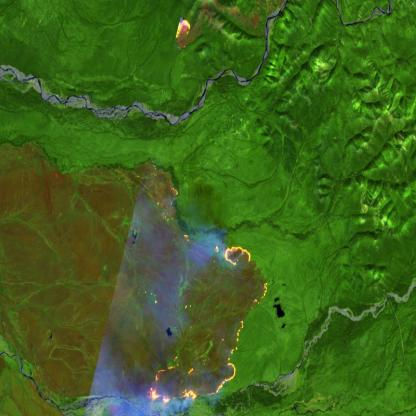fire: (146, 279, 267, 416), (182, 232, 256, 270), (174, 14, 195, 50)
